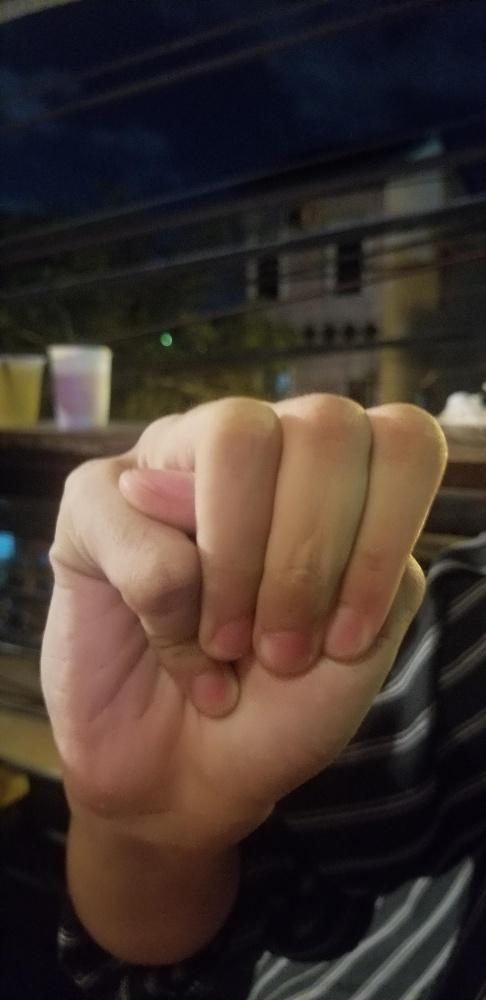m: (31, 383, 449, 833)
